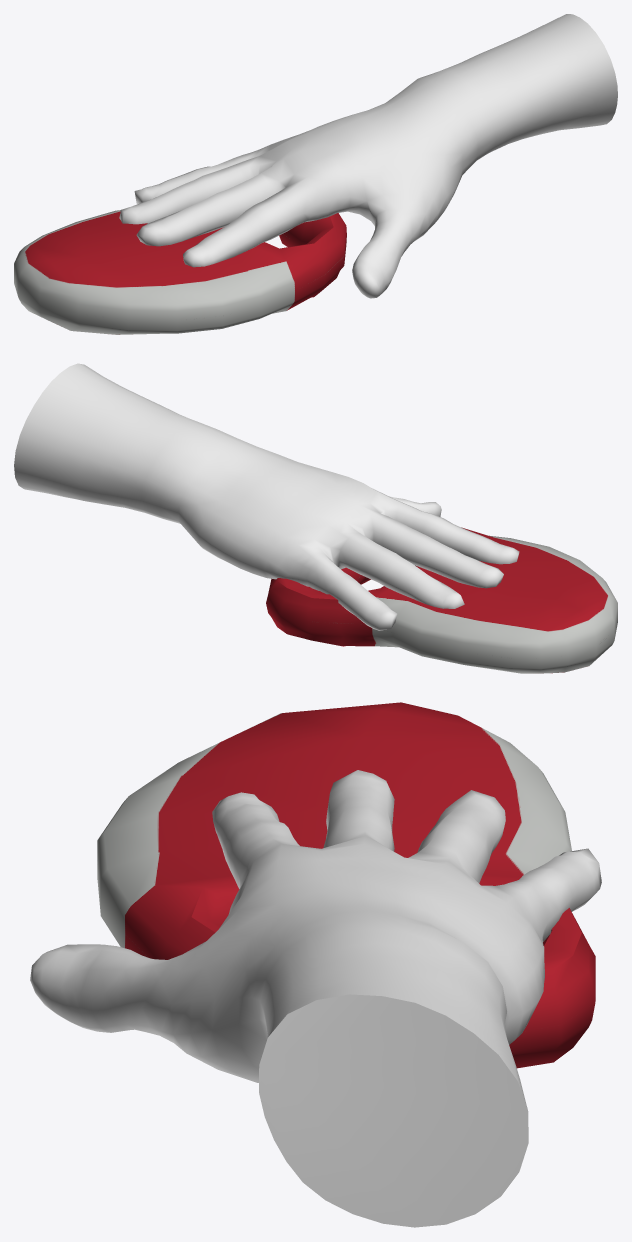
File: Hand with flexi line.fbx
The picture shows the model from 3 angles, top to bottom: view 1: azimuth 30°, elevation 25°; view 2: azimuth 150°, elevation 25°; view 3: azimuth 270°, elevation 25°; orthographic projection. The views are drawn at different scales.
Parts seen in each view (by area): view 1: armKortRecht2__Body, Flexiline__Cube; view 2: armKortRecht2__Body, Flexiline__Cube; view 3: armKortRecht2__Body, Flexiline__Cube.
Part boxes in pixels (x1,y1,x2,y2): armKortRecht2__Body: (119, 14, 617, 298); Flexiline__Cube: (14, 210, 346, 334); armKortRecht2__Body: (14, 363, 519, 630); Flexiline__Cube: (266, 527, 617, 673); armKortRecht2__Body: (30, 770, 601, 1227); Flexiline__Cube: (97, 702, 595, 1068).
Size of the model in its own units: 35.57 by 10 by 15.86.
Materials: 1 (1 with a texture image).
